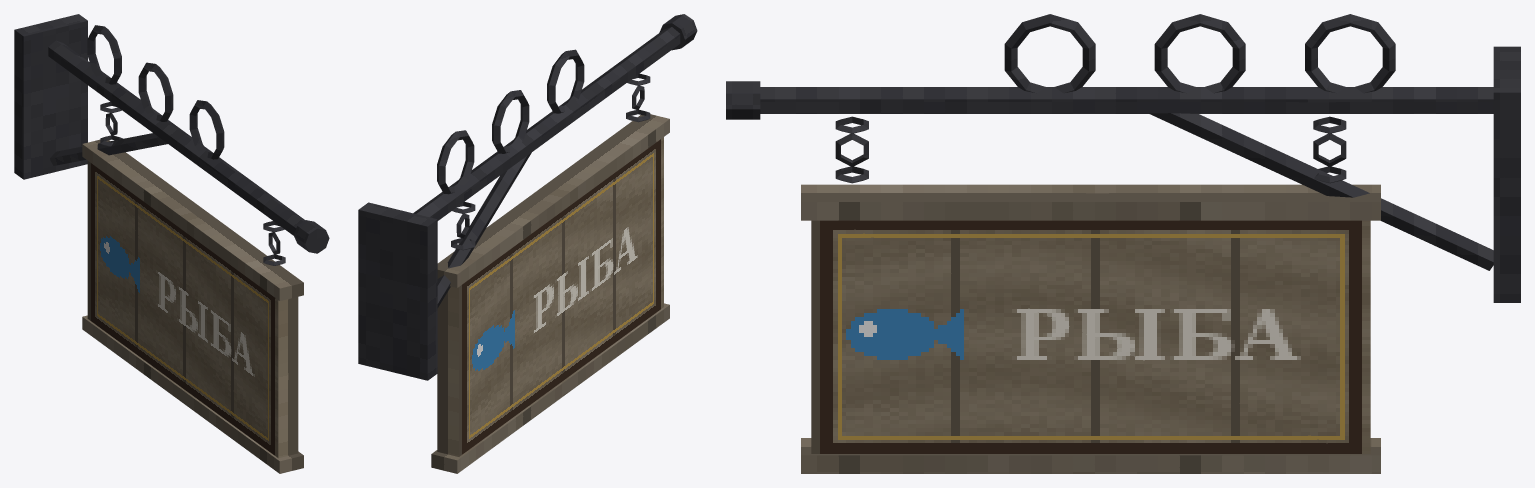
File: sign_fish.glb
3 renders of one model, left to right at view 1: azimuth 30°, elevation 25°; view 2: azimuth 150°, elevation 25°; view 3: azimuth 270°, elevation 25°, orthographic. The views are drawn at different scales.
Parts seen in each view (by area): view 1: board, bracket; view 2: board, bracket; view 3: board, bracket.
Part boxes in pixels (box(x1,y1,x2,y2)): board: box(82, 139, 303, 473); bracket: box(14, 14, 329, 265); board: box(431, 114, 669, 473); bracket: box(358, 14, 697, 380); board: box(801, 184, 1380, 473); bracket: box(726, 14, 1520, 302).
Bounding box in the file's own units: 0.16 × 0.73 × 1.16.
Materials: 3 (3 with a texture image).
